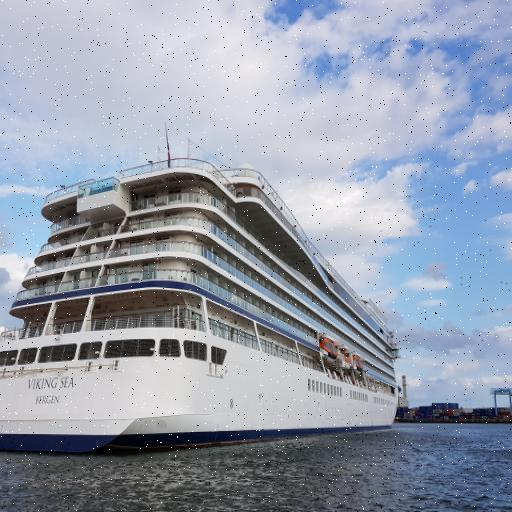cruises: (1, 148, 403, 464)
